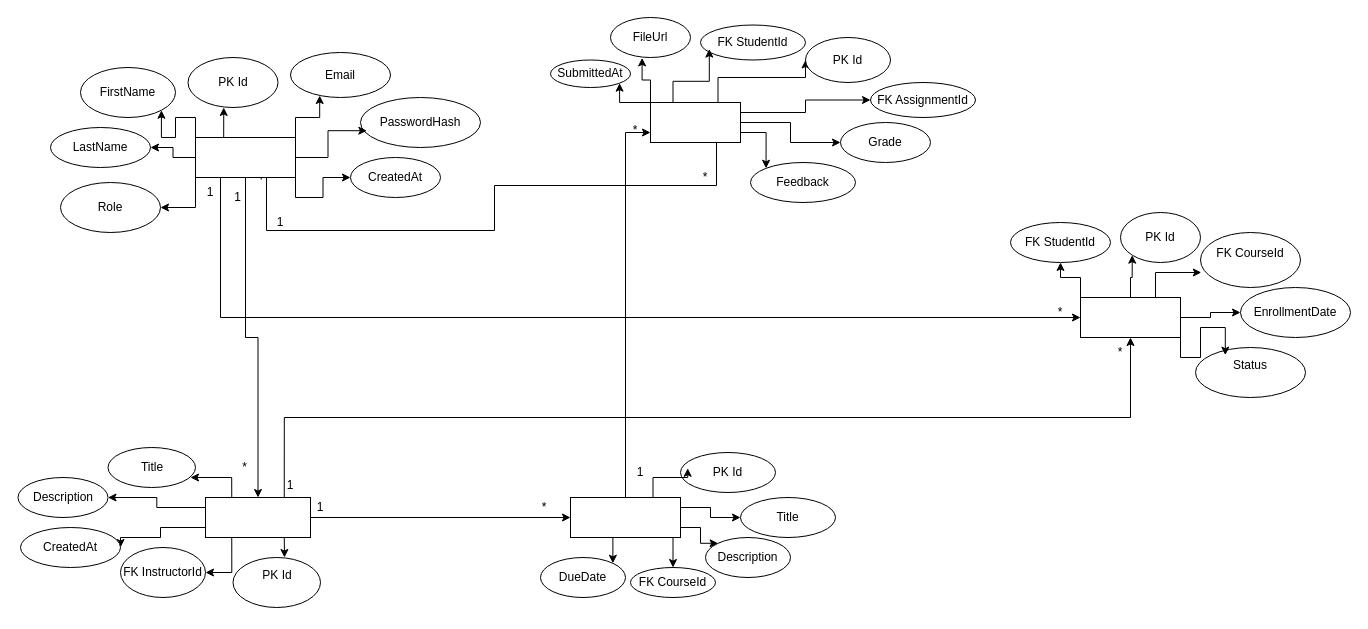
This 1368x629 diagram has some shape labels left out. The shapes that lost their labels are listed below. From the top down, each one's centre as x and y in pixels, then its label:
point 695,122: Submission
point 245,157: User
point 1130,317: Enrollment
point 257,517: Course
point 625,517: Assignment
